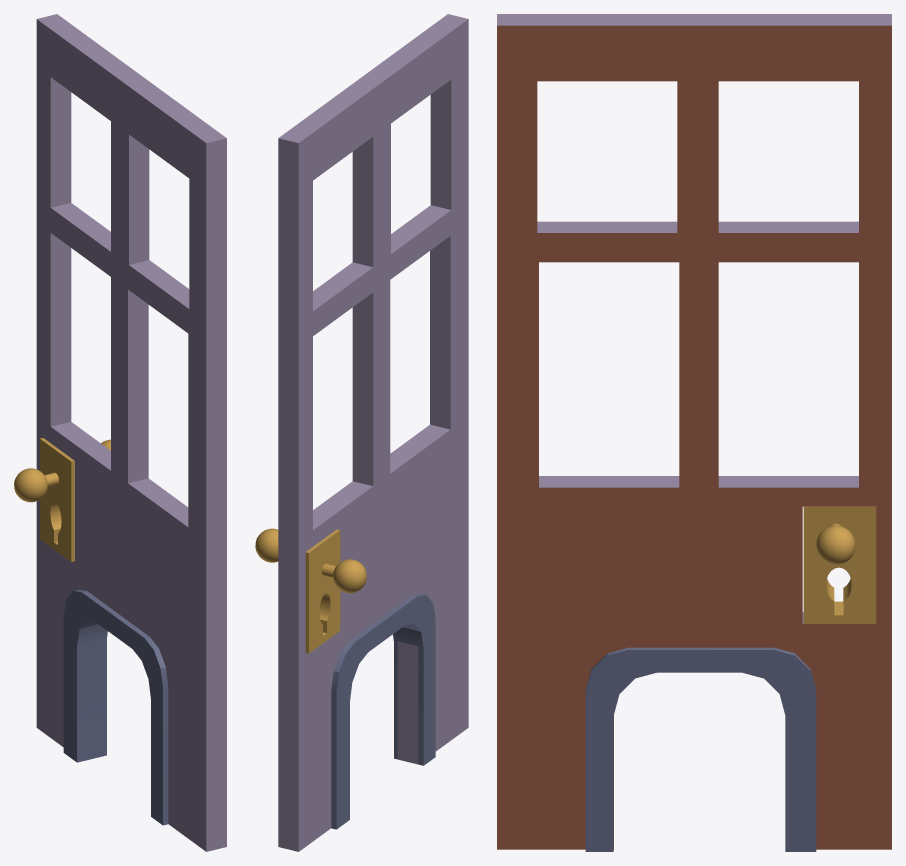
File: puertaLado.obj
3 renders of one model, left to right at view 1: azimuth 30°, elevation 25°; view 2: azimuth 150°, elevation 25°; view 3: azimuth 270°, elevation 25°, orthographic. The views are drawn at different scales.
Visible parts, largest first — view 1: polySurface37; view 2: polySurface37; view 3: polySurface37.
Part boxes in pixels (<box>): polySurface37: <box>14,14,226,851</box>; polySurface37: <box>255,14,468,851</box>; polySurface37: <box>497,14,891,851</box>.
Size of the model in its own units: 1.24 by 7.73 by 3.36.
4 materials, 4 textured.
